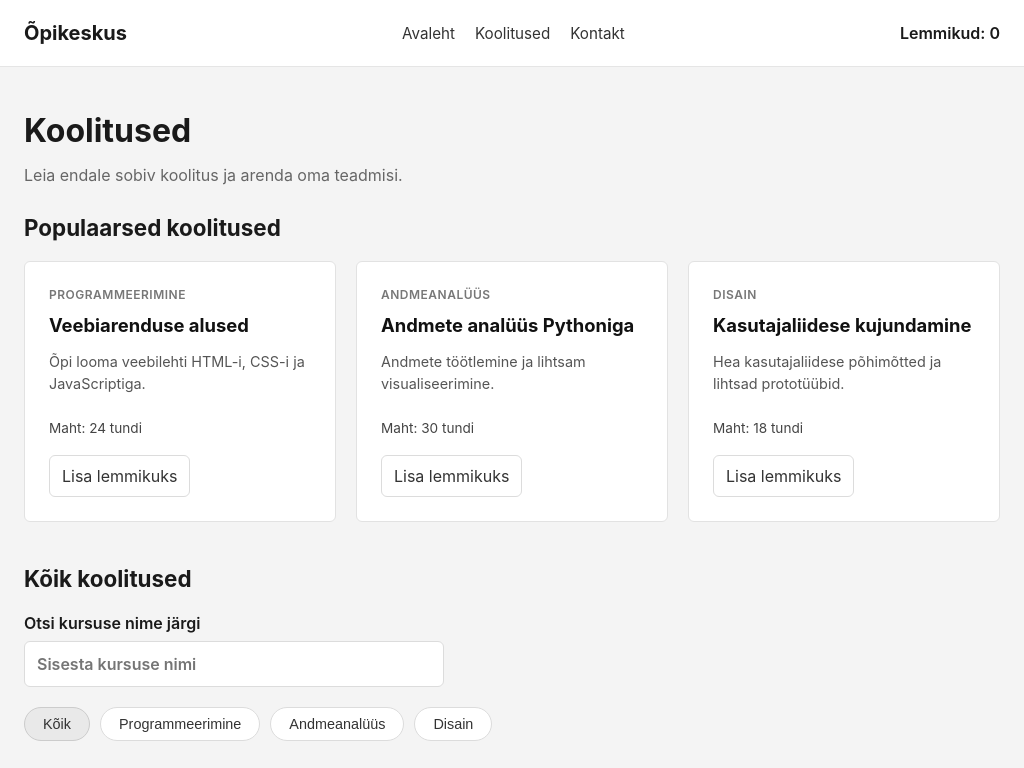
Test case: shows a message when a search has no matching course
This screenshot has width=1024, height=768.
Type "puuduv kursus" into the search field labelled "Otsi kursuse nime järgi" at (234, 664), box 24,641 -> 444,687
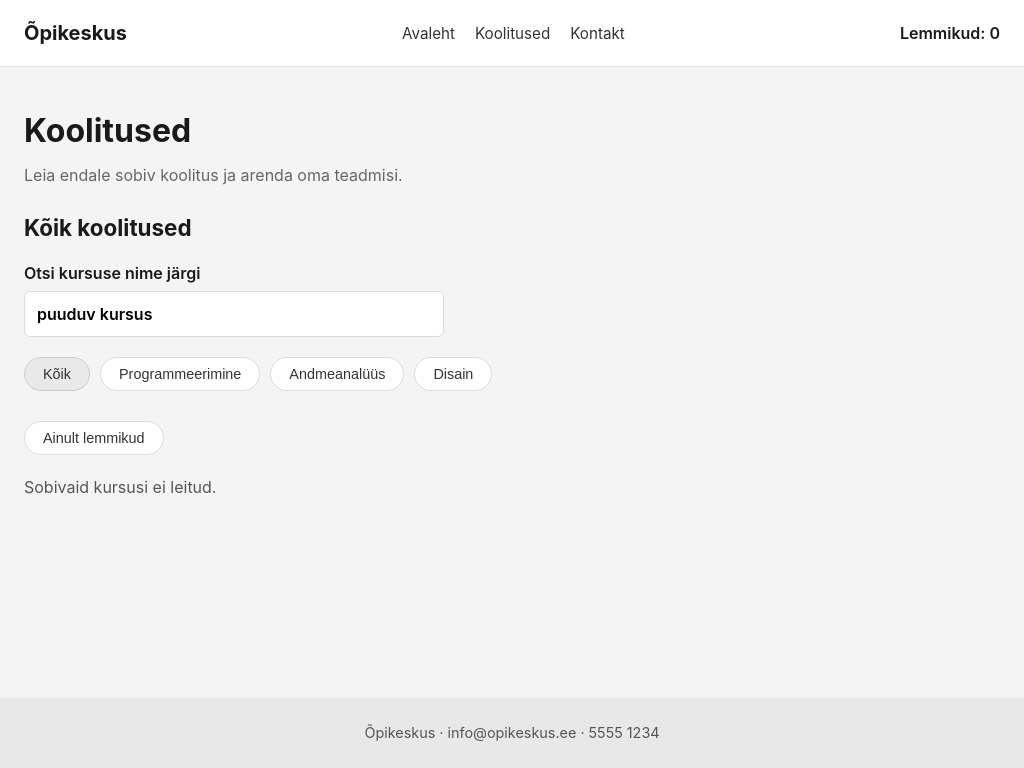
Expected: the message reads "Sobivaid kursusi ei leitud.", 24,477 -> 216,497
